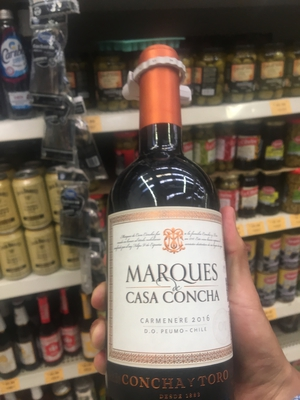marques de casa concha carmenere: (99, 42, 241, 400)
